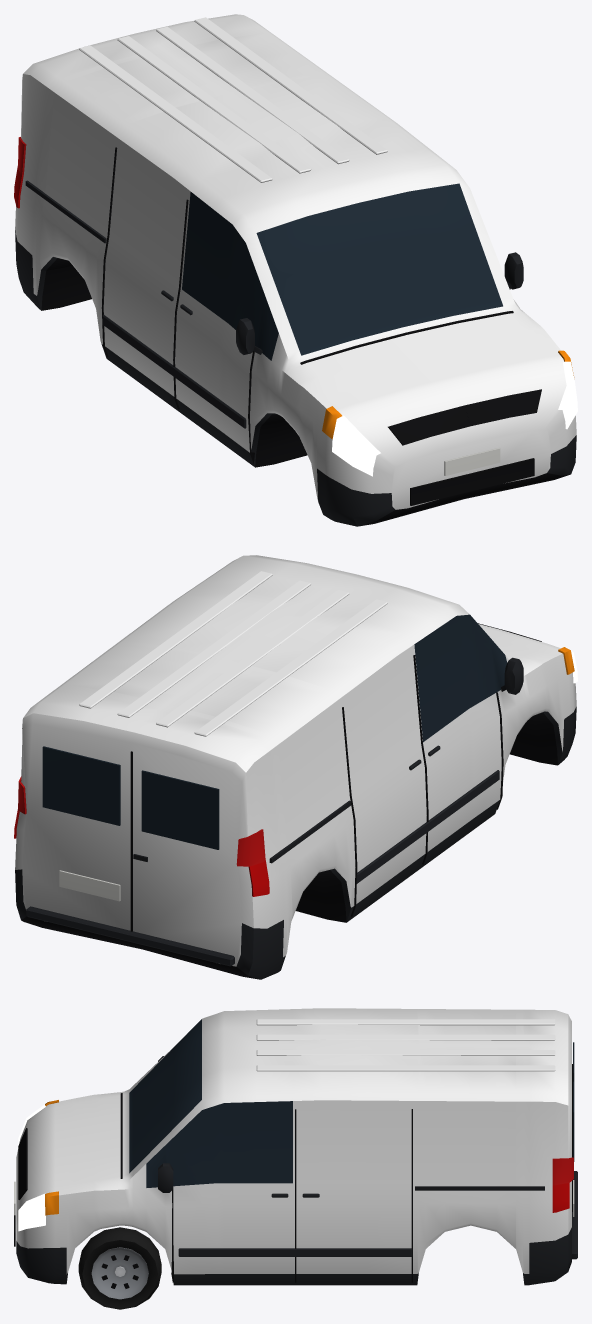
The model's file is van.glb.
3 views of the same model, one above another, from view 1: azimuth 30°, elevation 25°; view 2: azimuth 150°, elevation 25°; view 3: azimuth 270°, elevation 25° (orthographic). The views are drawn at different scales.
Visible parts, largest first — view 1: body, headlights; view 2: body, indicator_rr, taillights; view 3: body, wheel, headlights, indicator_rl, taillights.
Part boxes in pixels (<box>): body: <box>15,14,576,526</box>; headlights: <box>332,361,577,476</box>; body: <box>15,555,576,979</box>; indicator_rr: <box>236,829,265,866</box>; taillights: <box>14,810,269,896</box>; body: <box>14,1008,577,1285</box>; wheel: <box>78,1227,161,1309</box>; headlights: <box>18,1104,45,1231</box>; indicator_rl: <box>552,1157,573,1185</box>; taillights: <box>552,1183,569,1212</box>.
Size of the model in its own units: 2.05 by 1.87 by 4.34.
